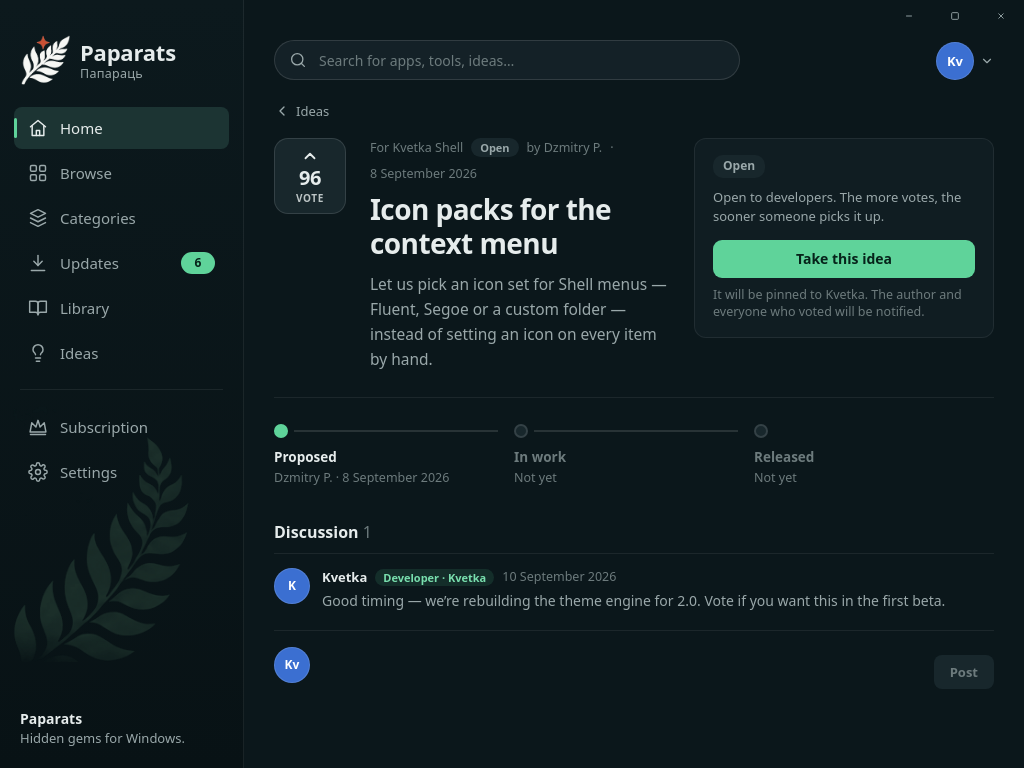
it: IdeaScreen › closes the release dialog with Cancel without releasing
The image size is (1024, 768).
Expected: the heading "Icon packs for the context menu" is shown, [370,190,611,262]
Click the button "Take this idea".
click(844, 259)  # box [713,240,975,278]
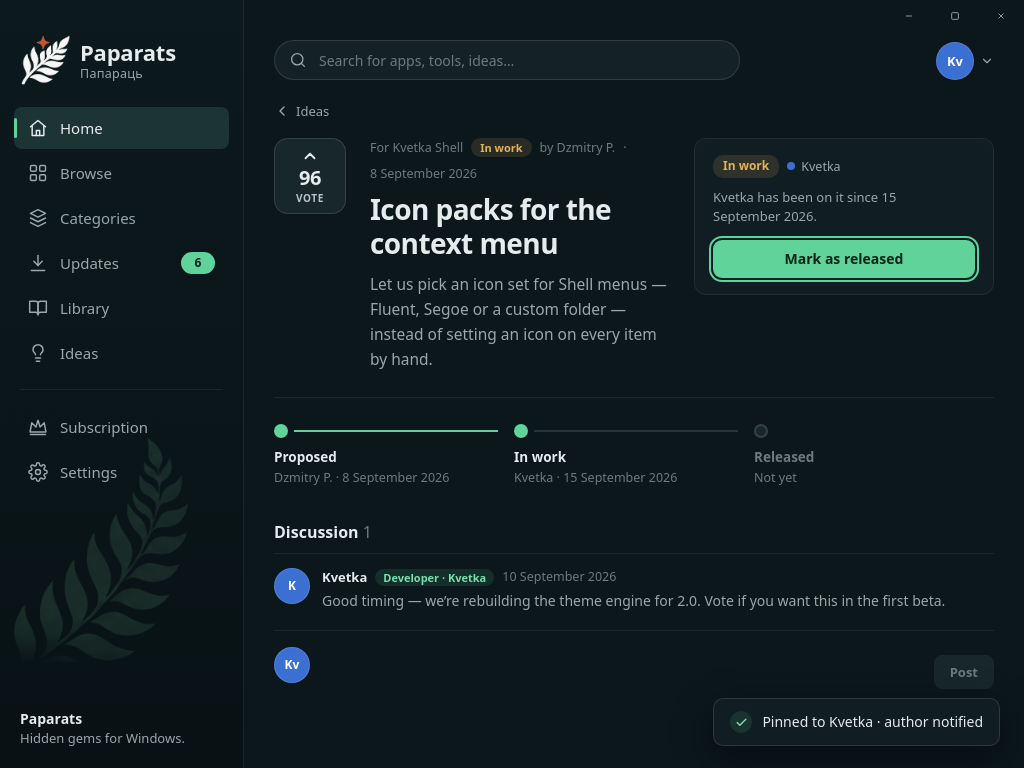
Click the button "Mark as released".
click(844, 259)  # box [713,240,975,278]
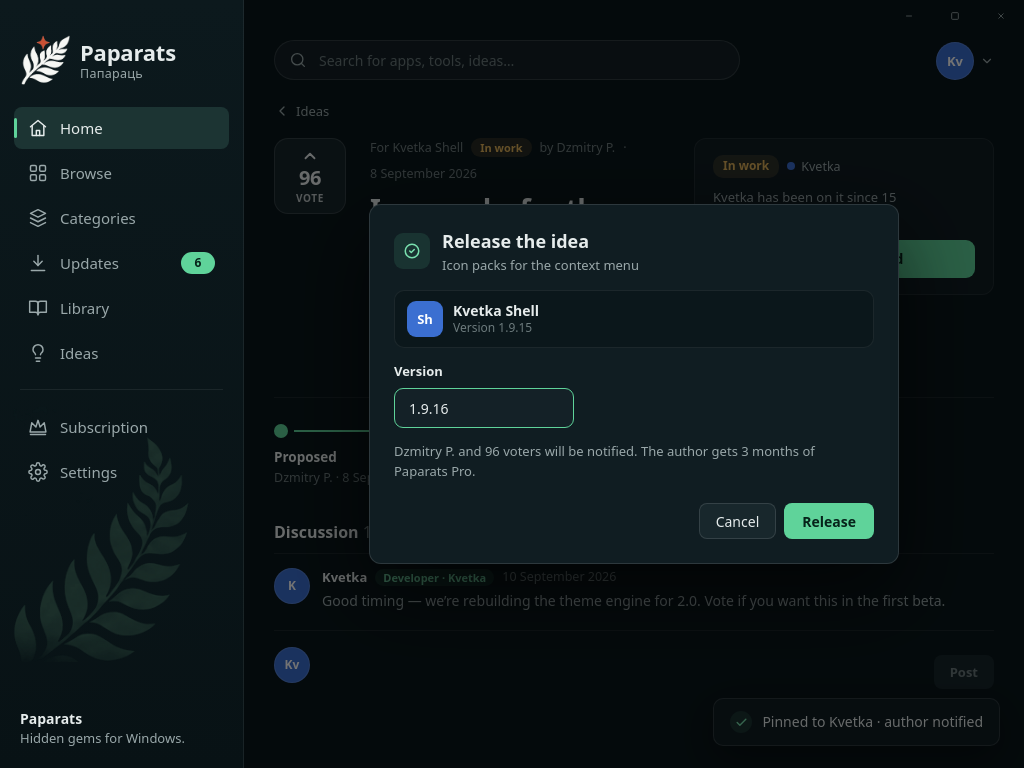
Result: the text "Kvetka Shell" is shown at [453,301,539,320]
Result: the text "Version 1.9.15" is shown at [453,320,539,337]
Result: the field labelled "Version" holds "1.9.16" at [394,388,574,428]
Click the button "Cancel".
click(738, 522)  # box [699,504,776,540]
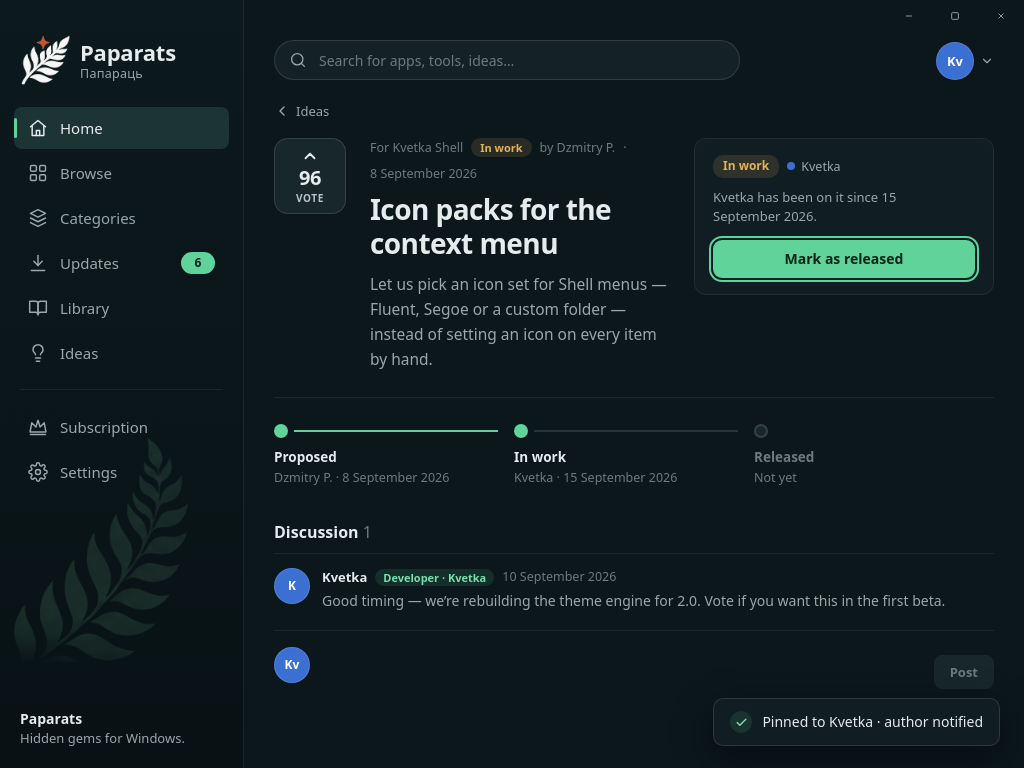
Result: the button "Mark as released" is shown at [713,240,975,278]
Result: the dialog is gone
